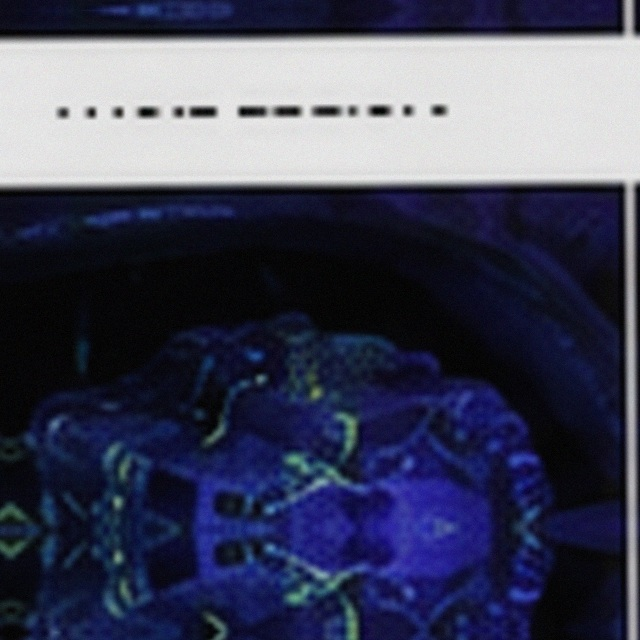hydraulic_oil_leak: (286, 453, 345, 481), (338, 412, 353, 450), (316, 577, 340, 594), (287, 585, 310, 600), (109, 448, 115, 453), (119, 475, 123, 479), (121, 461, 126, 464), (312, 391, 317, 394), (114, 495, 118, 498), (220, 424, 223, 427), (344, 574, 346, 577)
